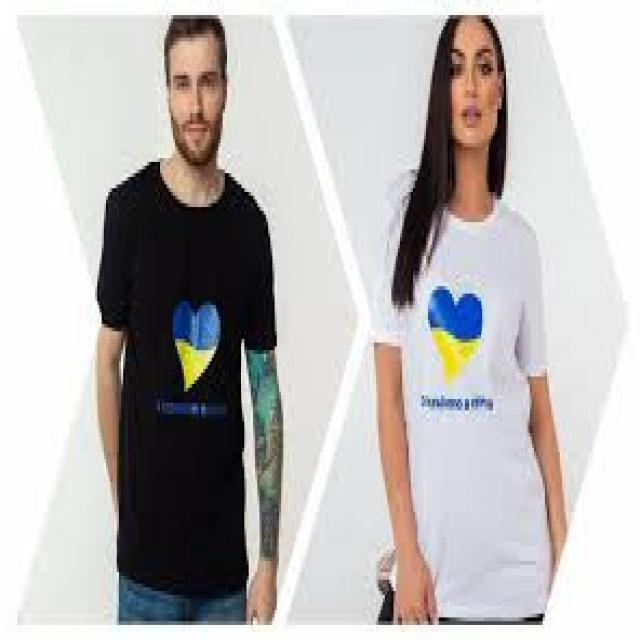Shirt: (349, 145, 580, 630), (80, 158, 290, 610)
